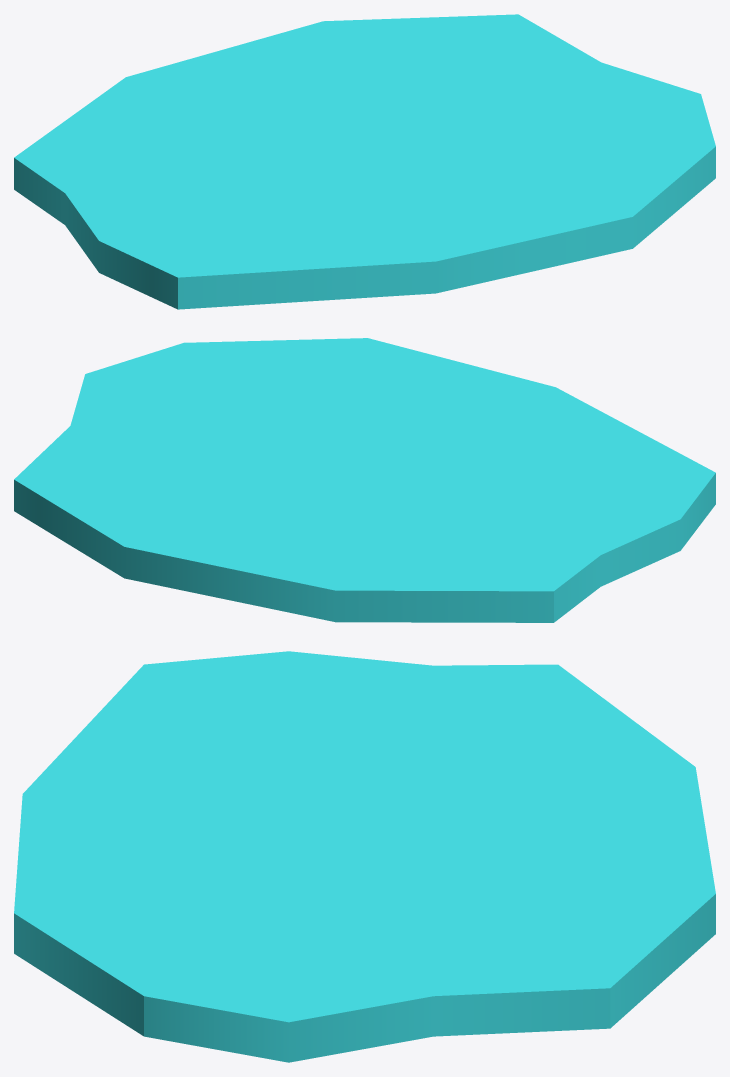
Rendered from floating ice export.fbx.
3 renders of one model, top to bottom at view 1: azimuth 30°, elevation 25°; view 2: azimuth 150°, elevation 25°; view 3: azimuth 270°, elevation 25°, orthographic. The views are drawn at different scales.
Parts seen in each view (by area): view 1: Box001; view 2: Box001; view 3: Box001.
Boxes of the visible parts, <box> form: Box001: <box>14,14,715,309</box>; Box001: <box>14,338,715,622</box>; Box001: <box>14,651,715,1062</box>.
Size of the model in its own units: 40.24 by 2.04 by 32.17.
